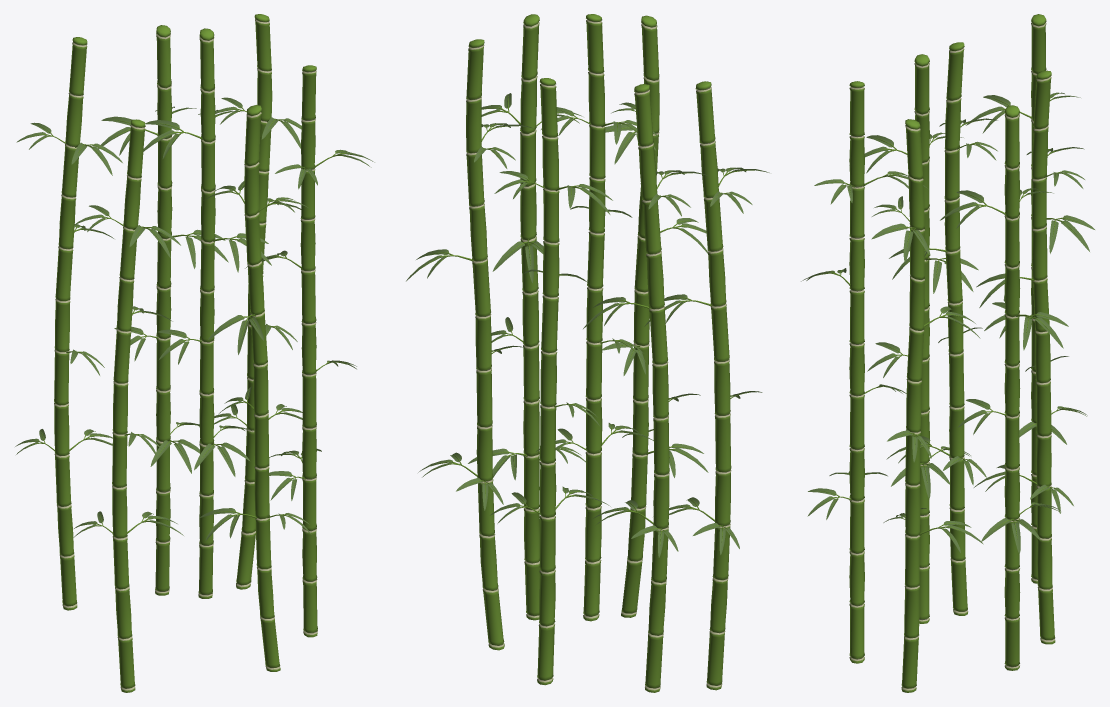
The model's file is bamboo3.fbx.
3 views of the same model, side by side, from view 1: azimuth 30°, elevation 25°; view 2: azimuth 150°, elevation 25°; view 3: azimuth 270°, elevation 25° (orthographic). The views are drawn at different scales.
Visible parts, largest first — view 1: Bamboo.017; view 2: Bamboo.017; view 3: Bamboo.017.
Part boxes in pixels (x1,y1,x2,y2): Bamboo.017: [15, 14, 374, 692]; Bamboo.017: [406, 14, 769, 692]; Bamboo.017: [801, 14, 1094, 692].
Bounding box in the file's own units: 2317 × 4914 × 2101.
